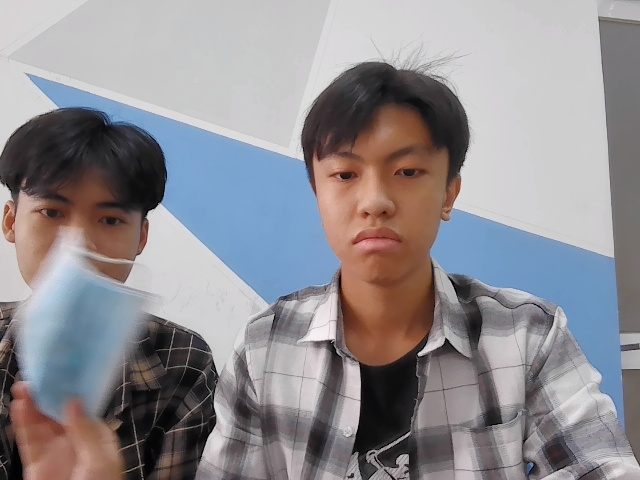human: (308, 66, 465, 281), (8, 103, 158, 280)
mask: (10, 226, 143, 418)
